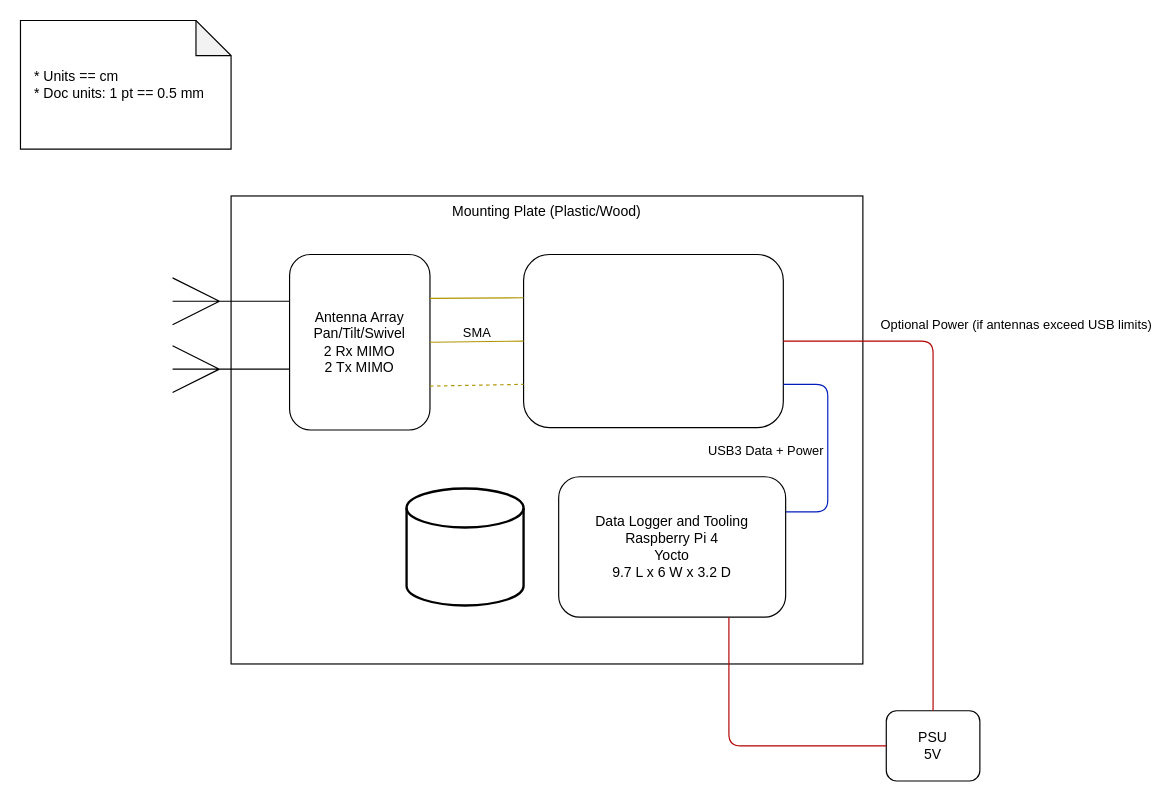
Image size: 1171x801. Some labels were removed from this diagram. The shapes that lost their labels are listed below. From the top down, each one's centre as x and y in pixels, then its label:
At (652,340): "SDR BladeRF 2.0 Micro 11.1 L x 7.4 W x 2.5 D".
At (464,546): "On-board 64 GB or External SD".
